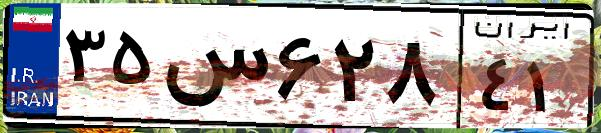1: (525, 38, 570, 115)
2: (330, 28, 385, 110)
3: (57, 26, 110, 100)
4: (475, 38, 525, 113)
5: (110, 28, 158, 98)
6: (270, 28, 330, 110)
8: (385, 28, 445, 110)
س: (158, 20, 270, 120)
